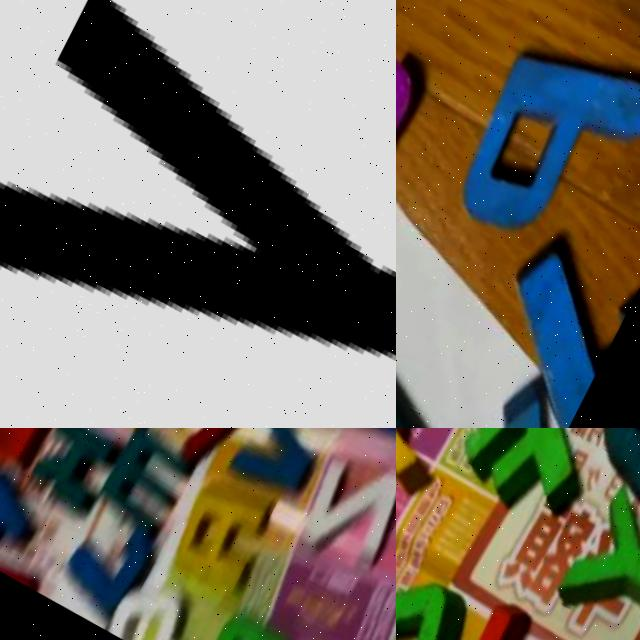C: (396, 546, 488, 640), (190, 600, 296, 640)
D: (579, 428, 640, 515)
F: (442, 428, 618, 549)
I: (436, 591, 594, 640)
J: (465, 207, 640, 428), (49, 497, 165, 629)
K: (20, 428, 127, 522)
M: (92, 428, 203, 542)
P: (438, 2, 640, 268), (0, 465, 42, 568)
Q: (102, 562, 208, 640)
R: (156, 465, 279, 605)
S: (396, 0, 443, 215)
U: (154, 428, 268, 468)
V: (396, 362, 570, 428), (220, 428, 337, 507)
W: (0, 428, 71, 478)
X: (396, 428, 471, 554)
Y: (0, 0, 396, 428), (551, 487, 640, 640)
Z: (291, 433, 396, 576)
